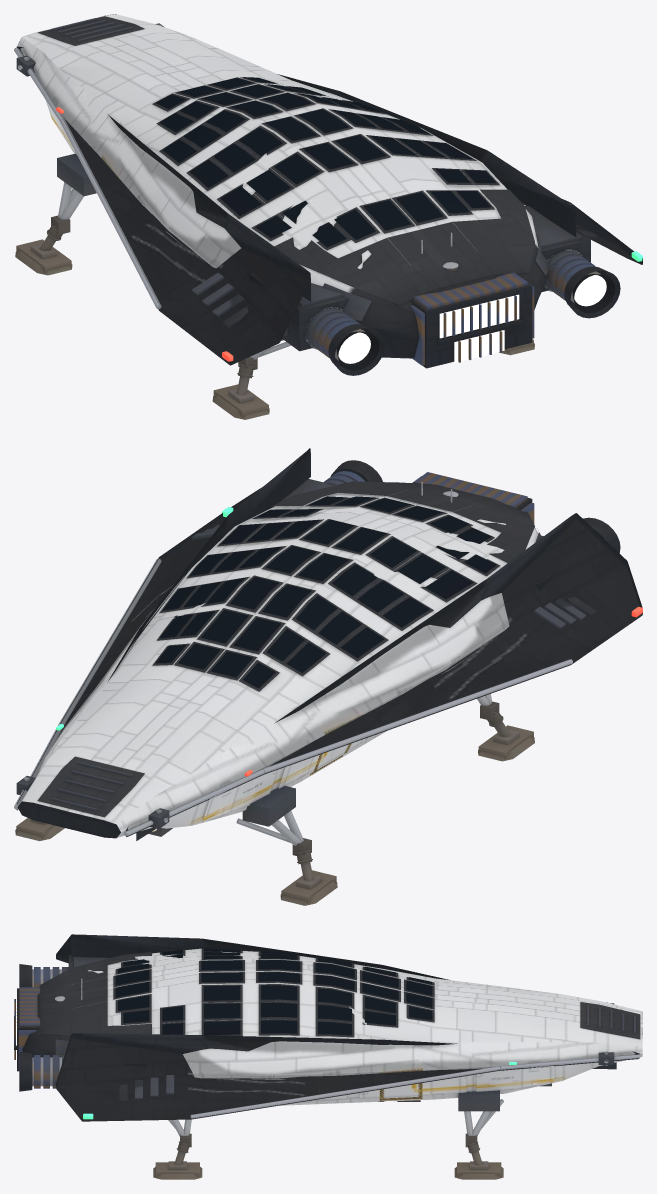
File: ship-lander.glb
The picture shows the model from 3 angles, top to bottom: view 1: azimuth 30°, elevation 25°; view 2: azimuth 150°, elevation 25°; view 3: azimuth 270°, elevation 25°; orthographic projection. The views are drawn at different scales.
Parts seen in each view (by area): view 1: Hull, Wings, Engine, Legs; view 2: Hull, Wings, Legs, Engine; view 3: Hull, Wings, Engine, Legs.
Part boxes in pixels (x1,y1,x2,y2): Hull: (16, 14, 553, 358); Wings: (14, 46, 642, 365); Engine: (248, 205, 620, 375); Legs: (15, 153, 534, 419); Hull: (16, 481, 540, 838); Wings: (14, 448, 642, 840); Legs: (15, 694, 534, 905); Engine: (274, 460, 620, 590); Hull: (22, 948, 642, 1105); Wings: (56, 934, 640, 1121); Engine: (14, 955, 146, 1091); Legs: (153, 1090, 503, 1179).
Bounding box in the file's own units: 0.5892 × 0.2709 × 1.01.
4 materials, 1 textured.
